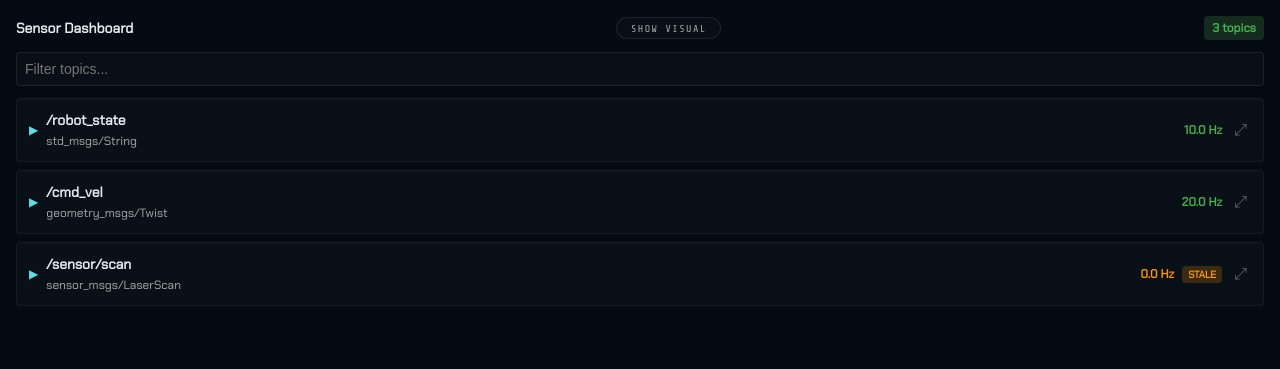
Test: TopicInspector › shows the raw JSON view when expanding a topic in default mode
The width and height of the screenshot is (1280, 369).
Click the button "▶ /robot_state std_msgs/String 10.0 Hz ⤢" at (86, 120), box 17,99 -> 1263,161
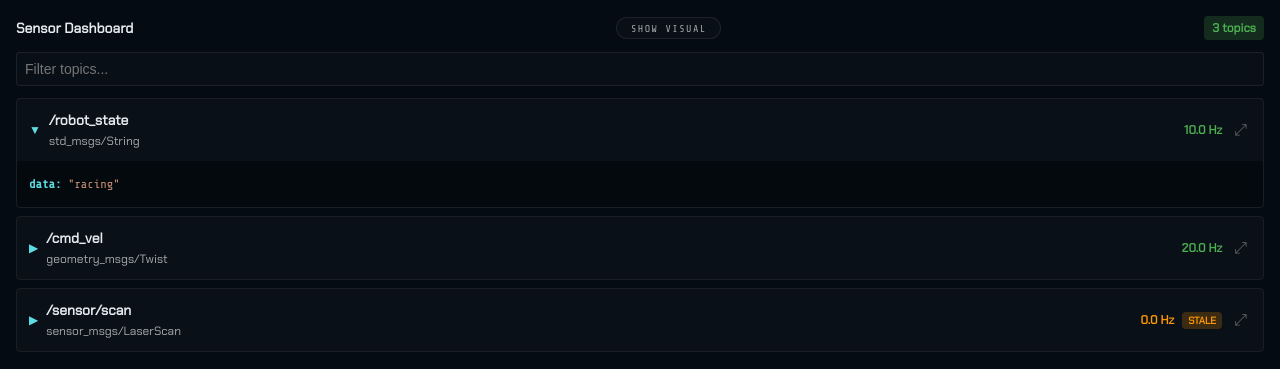
expect the text "\"racing\"" is shown: met, box 68,177 -> 120,191
